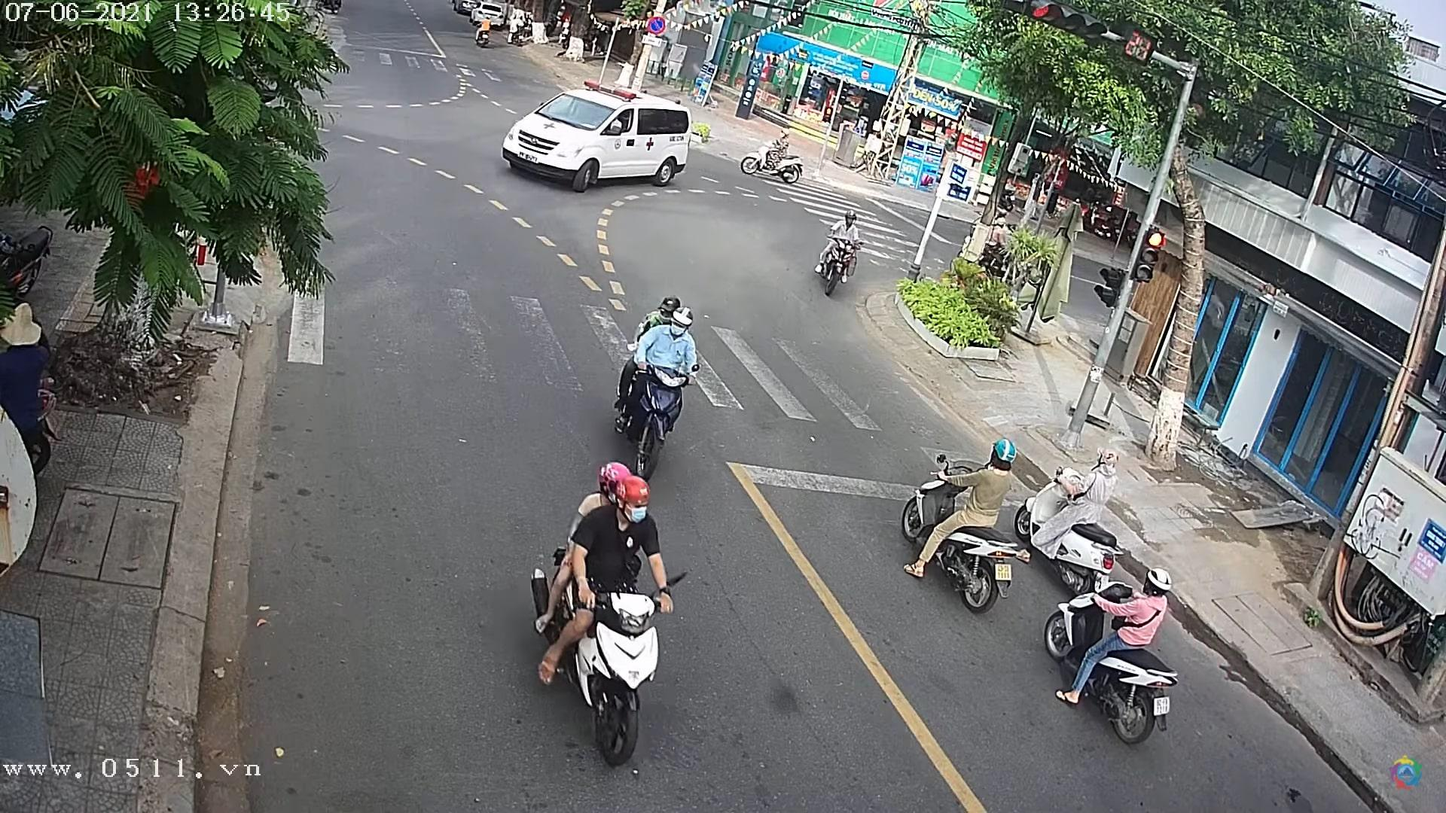car: (500, 91, 693, 192)
motorbike: (529, 529, 677, 770), (1040, 571, 1173, 749), (1019, 465, 1126, 604), (615, 318, 699, 488), (930, 525, 1024, 611), (808, 213, 859, 300), (743, 132, 807, 186)
